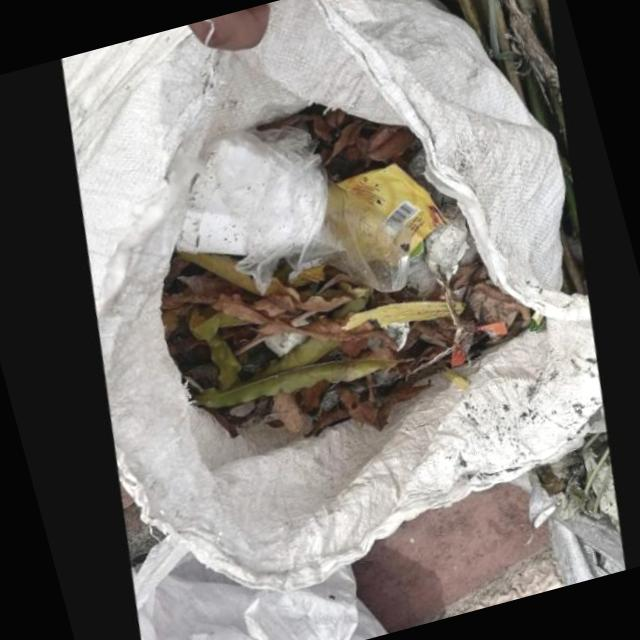bao_bi_thuc_pham: (277, 174, 404, 293), (329, 164, 441, 253)
la_cay: (206, 294, 391, 348), (185, 359, 396, 406), (187, 312, 246, 388), (335, 383, 427, 430), (457, 281, 526, 330), (367, 348, 450, 387), (260, 278, 351, 311), (153, 304, 215, 341), (252, 390, 299, 435), (358, 124, 408, 161), (317, 120, 357, 166), (153, 286, 232, 307), (169, 275, 228, 295), (444, 259, 478, 293), (249, 114, 307, 132), (306, 109, 334, 144), (179, 306, 199, 339)
